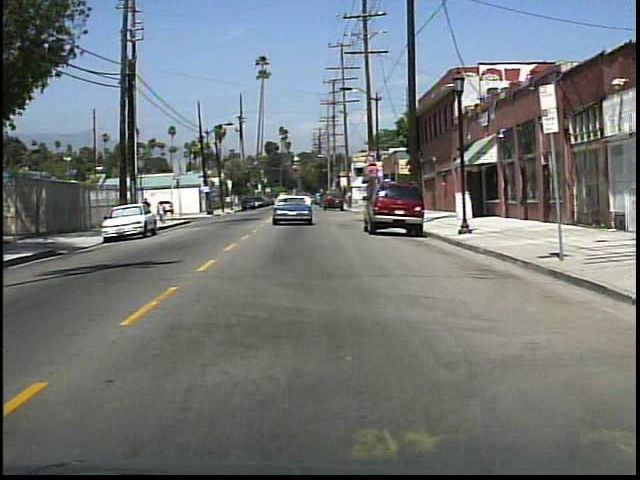person: (140, 196, 155, 227), (156, 199, 169, 225)
